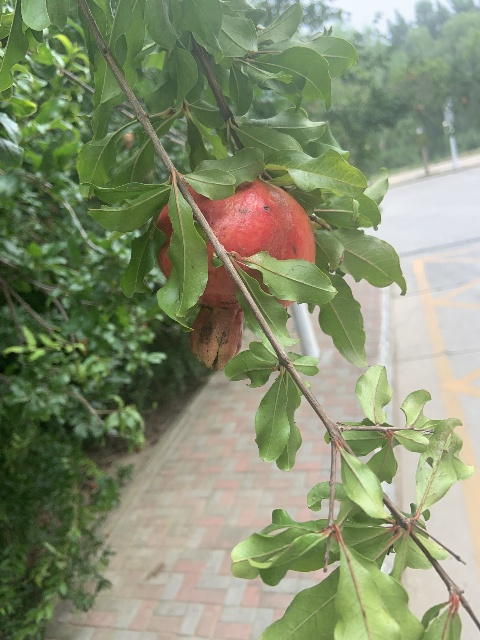ripe: (157, 175, 317, 368)
